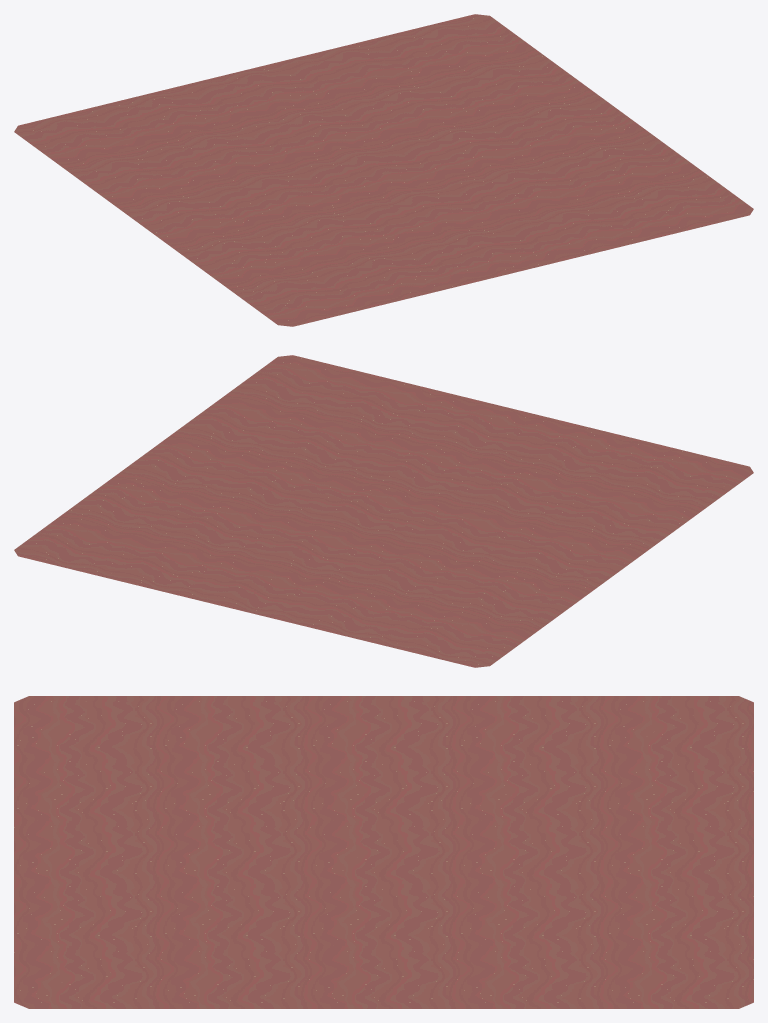
File: kd_stage_135b75_4_118.glb
3 renders of one model, top to bottom at view 1: azimuth 30°, elevation 25°; view 2: azimuth 150°, elevation 25°; view 3: azimuth 270°, elevation 25°, orthographic. The views are drawn at different scales.
Parts seen in each view (by area): view 1: kd_stage_135b75_4_118; view 2: kd_stage_135b75_4_118; view 3: kd_stage_135b75_4_118.
Boxes of the visible parts, x1,y1,x2,y2 form: kd_stage_135b75_4_118: (14, 14, 753, 326); kd_stage_135b75_4_118: (14, 355, 753, 667); kd_stage_135b75_4_118: (14, 696, 753, 1008).
Bounding box in the file's own units: 1.08 × 2.09e-07 × 1.08.
Materials: 1 (1 with a texture image).
